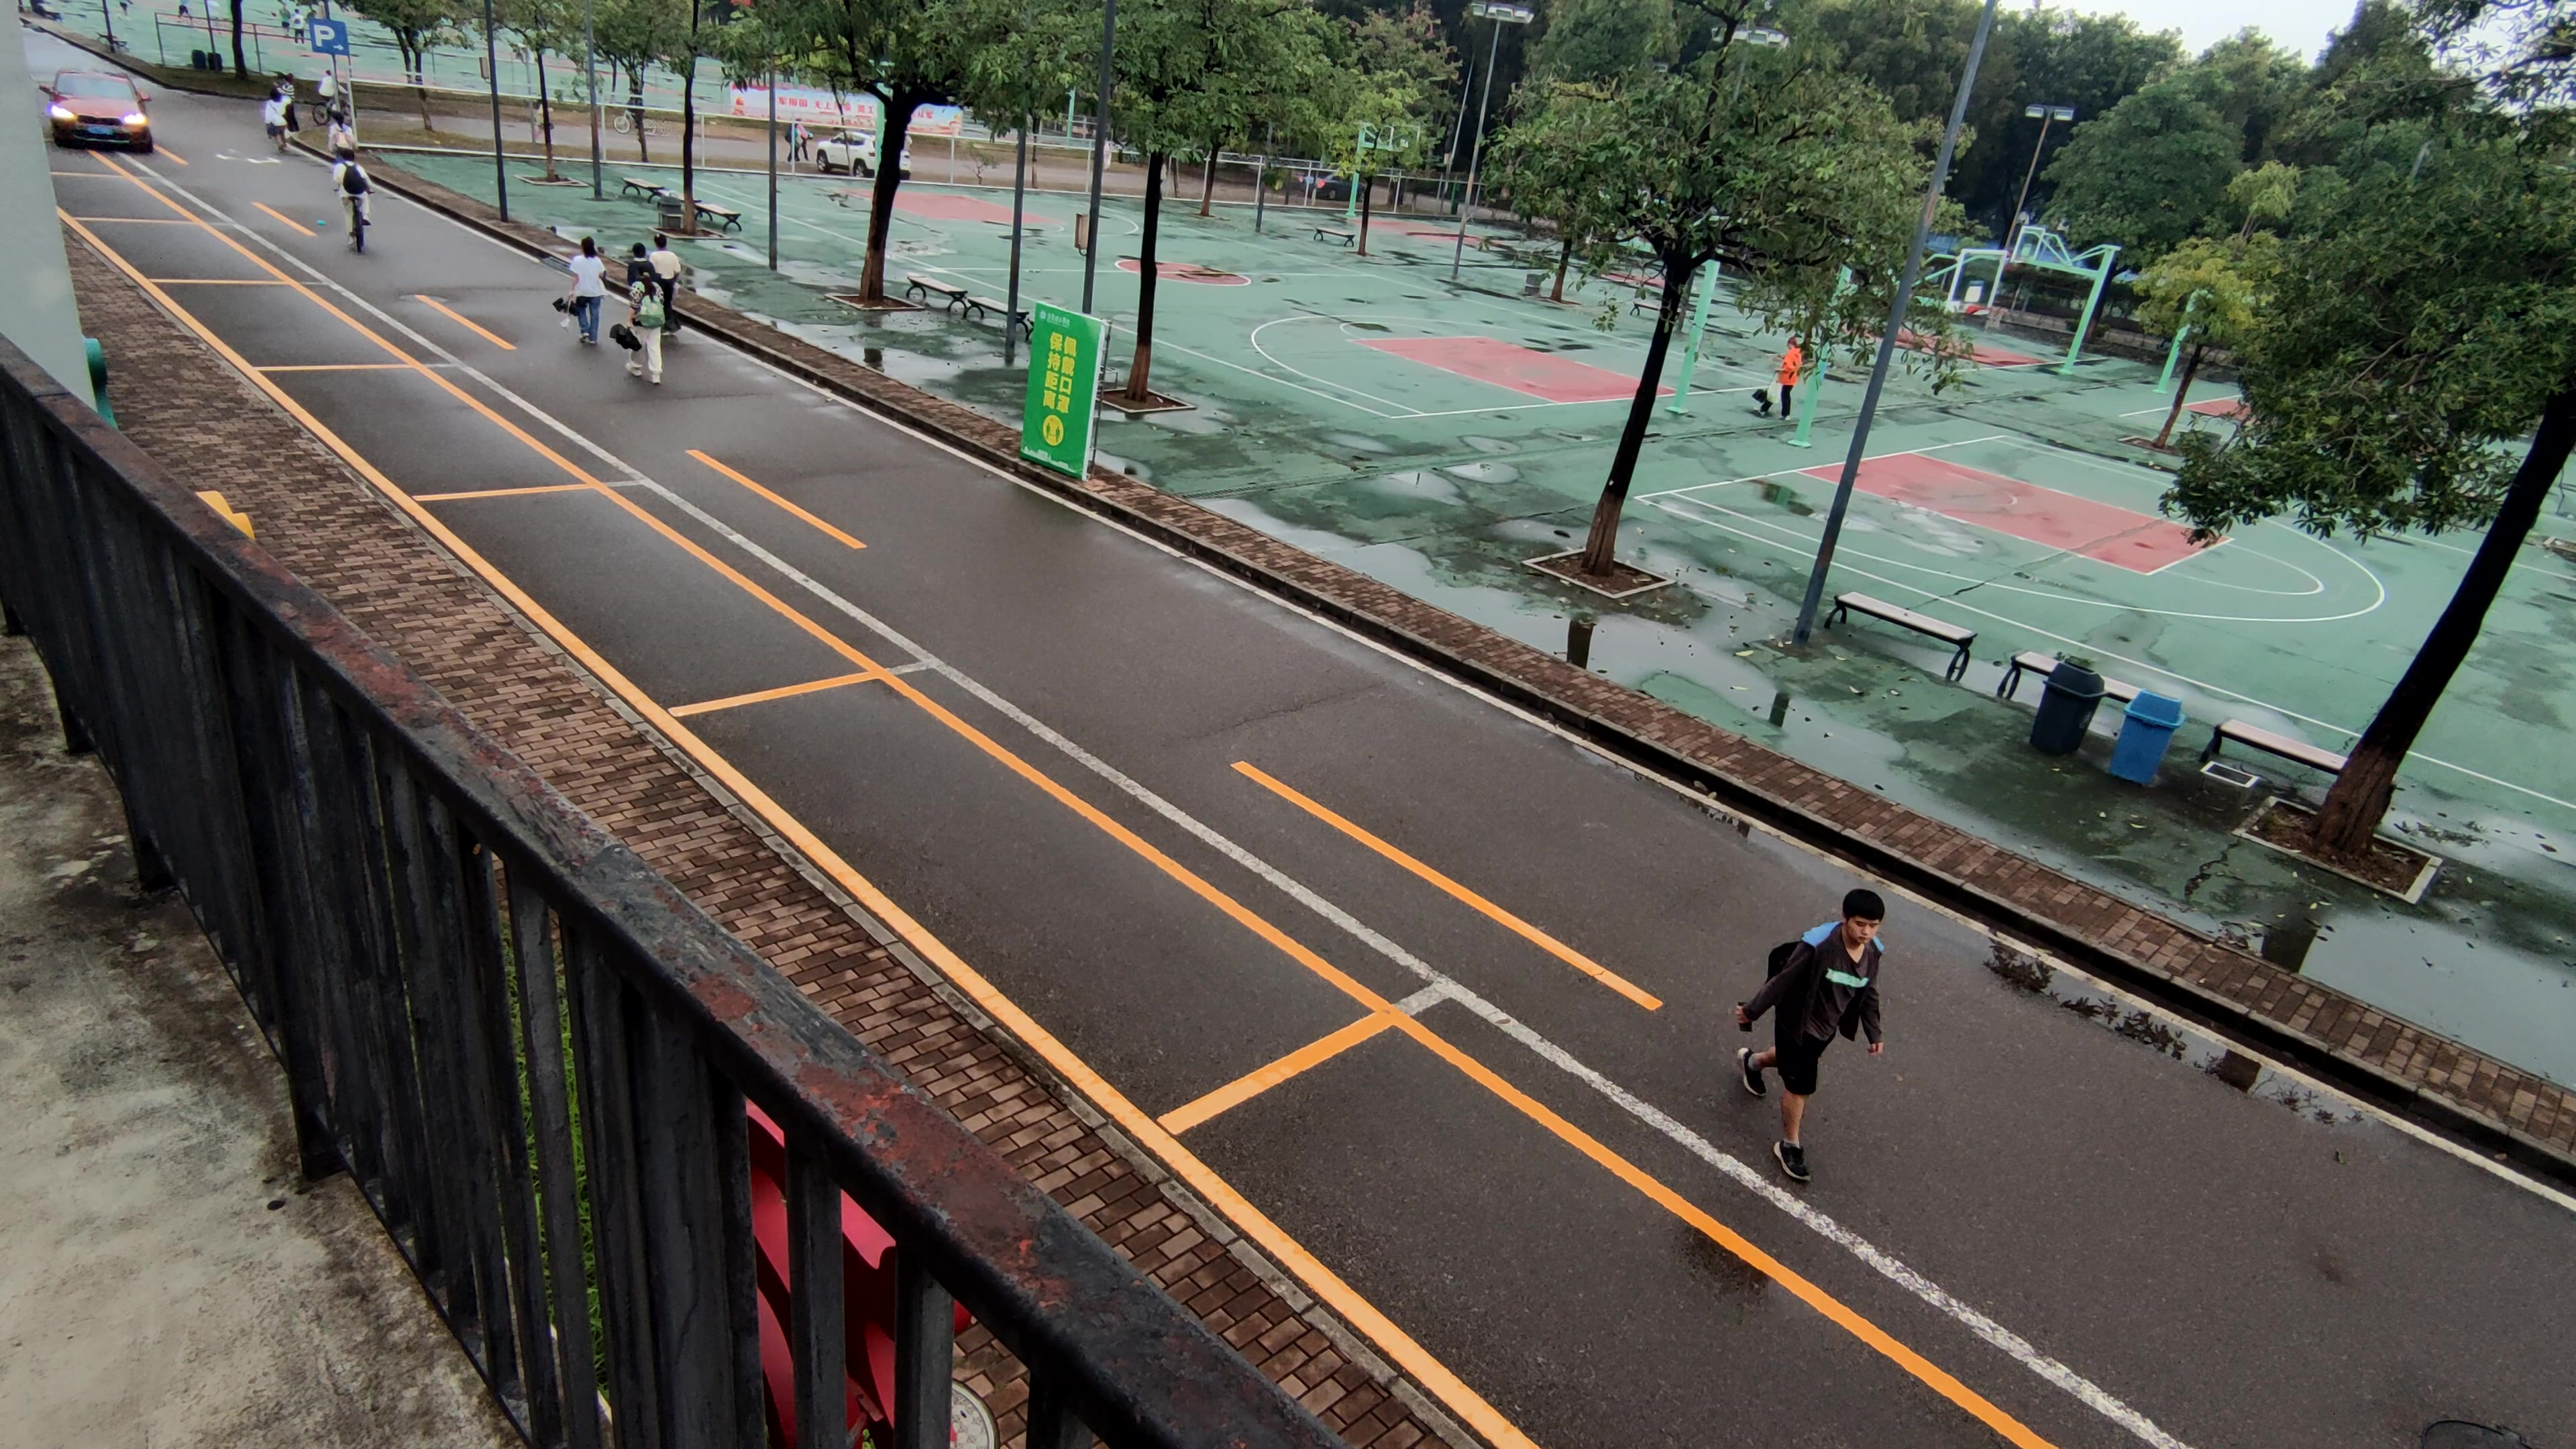space-empty: (651, 655, 1412, 1148), (405, 472, 885, 731), (249, 354, 596, 510), (143, 272, 419, 384), (67, 209, 283, 297)
